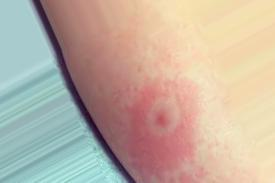Tick: (140, 80, 195, 157)
